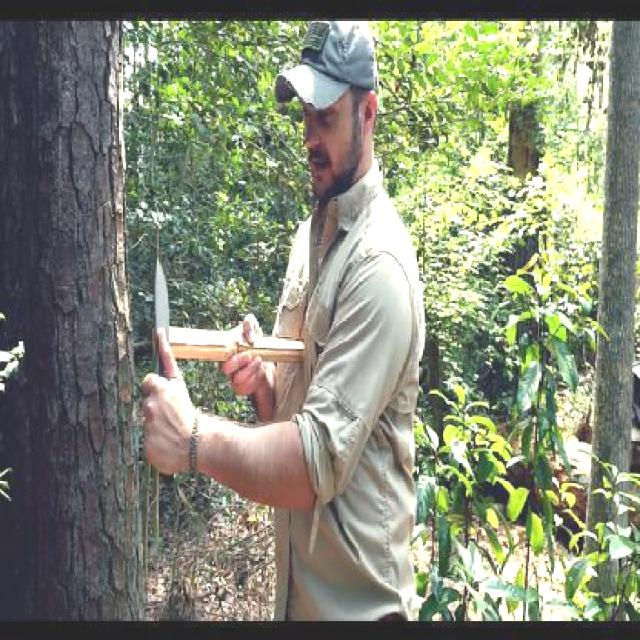knife: (140, 251, 182, 457)
